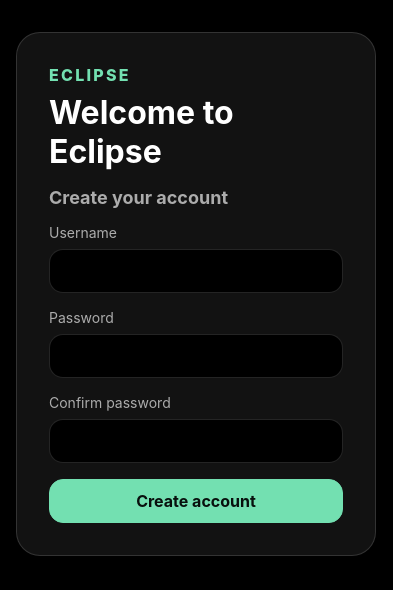
it: first-run authentication › surfaces backend registration failures and stays on account creation
The width and height of the screenshot is (393, 590).
Type "owner" into the field labelled "Username" at [196, 271], box [49, 249, 343, 293]
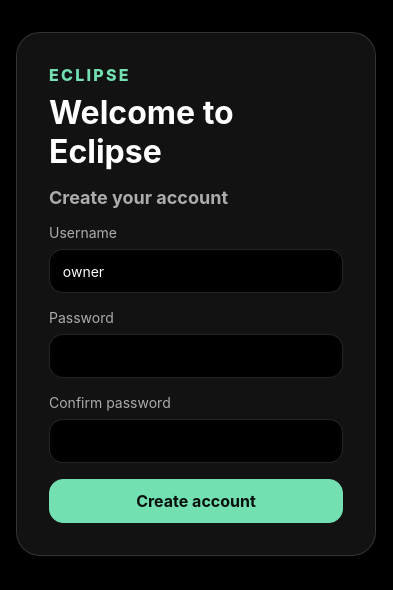
Type "password123" into the password field labelled "Password" at [196, 356], box [49, 334, 343, 378]
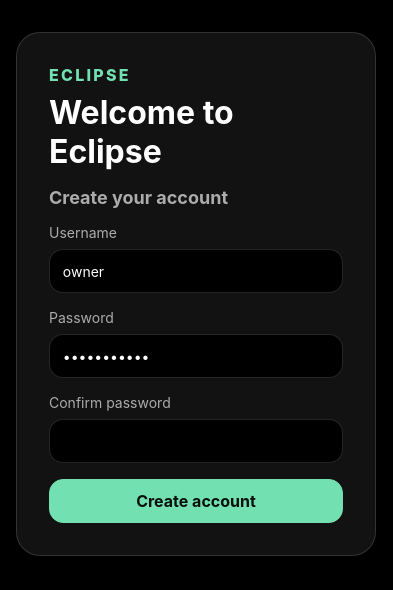
Type "password123" into the password field labelled "Confirm password" at [196, 441], box [49, 419, 343, 463]
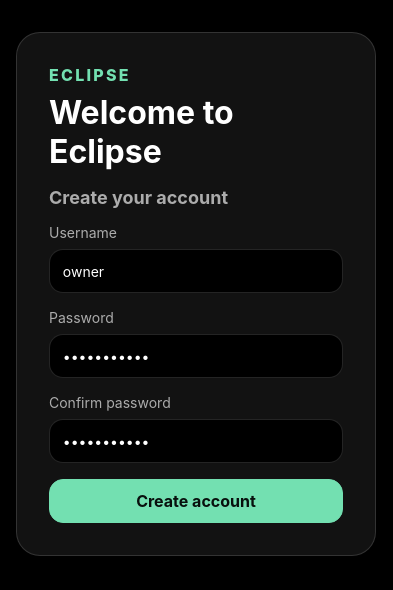
Submit the form
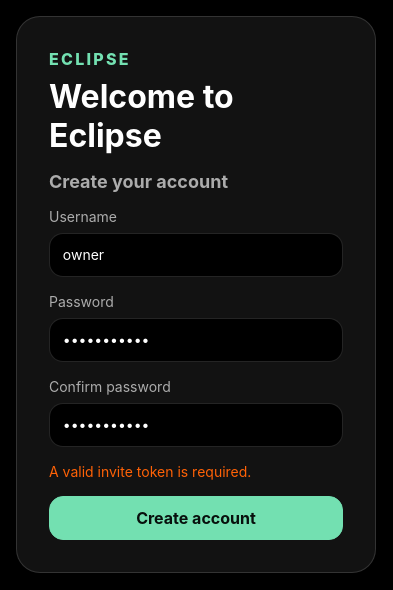
Expected: the text "Create your account" is shown, [49, 170, 228, 192]
Expected: the message "A valid invite token is required." is shown, [49, 462, 251, 480]
